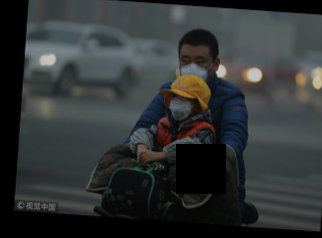with_mask: (178, 52, 213, 85), (166, 93, 193, 120)
